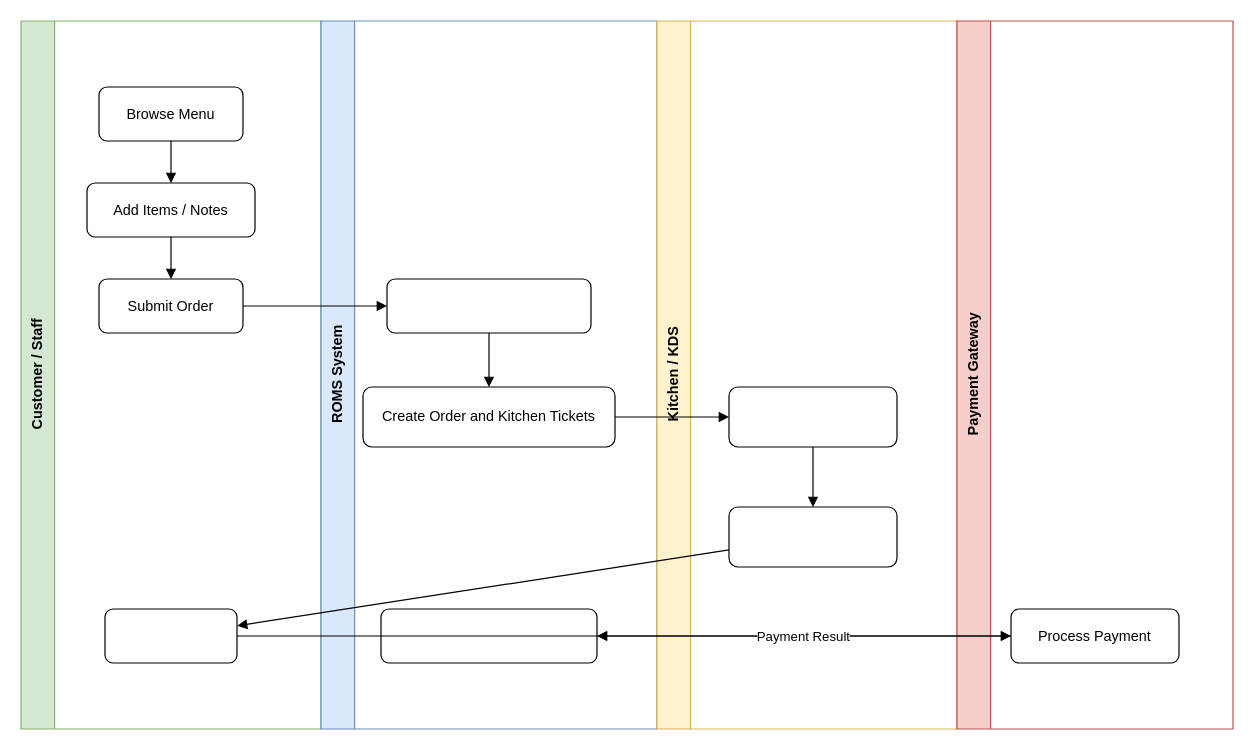
This 1254x750 diagram has some shape labels left out. The centre of each missing label's shape, as x and y in pixels:
Accept / Prepare Ticket: point 812,416
Checkout: point 170,635
Mark Ready / Served: point 812,536
Update Paid / Completed: point 488,635
Validate Items and Price: point 488,305
